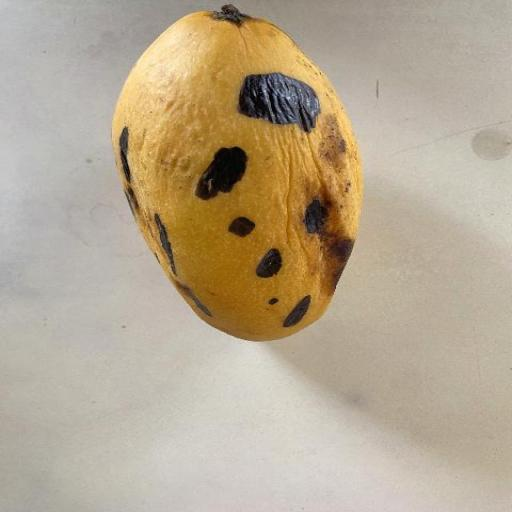mango-overripe: (68, 4, 382, 353)
